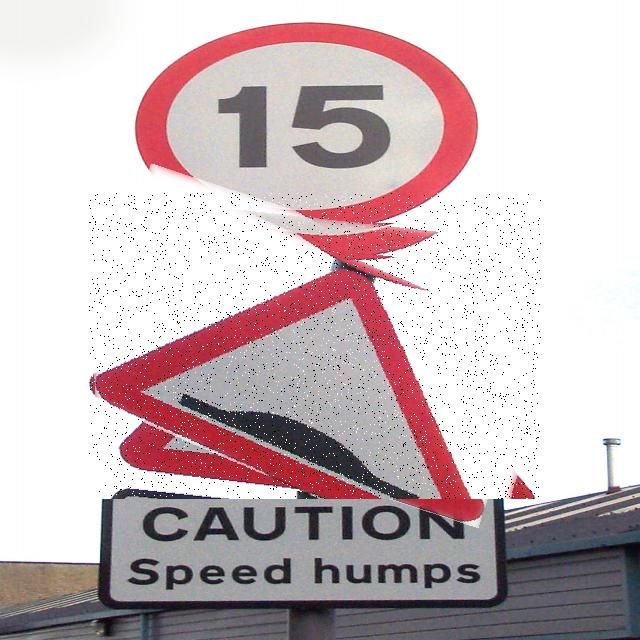hump: (89, 193, 541, 499)
